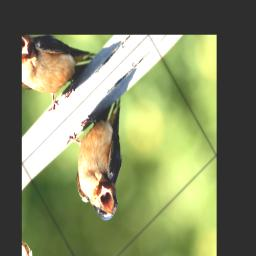Swallow: (53, 87, 161, 232)
